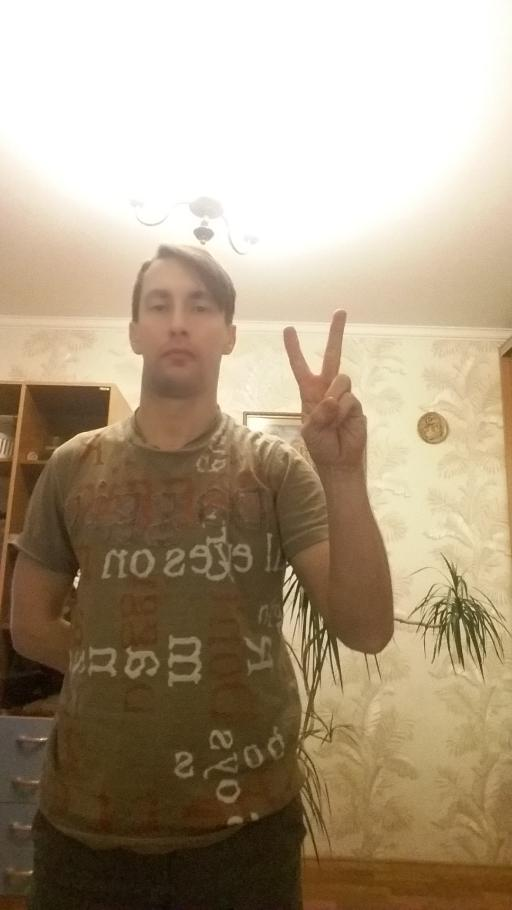peace: (281, 306, 370, 470)
